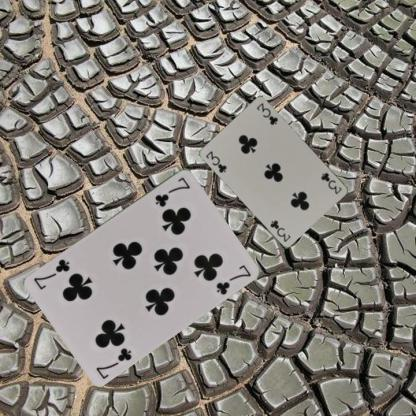3c: (318, 170, 343, 196), (204, 148, 228, 174)
7c: (93, 344, 134, 380), (152, 174, 192, 208)
